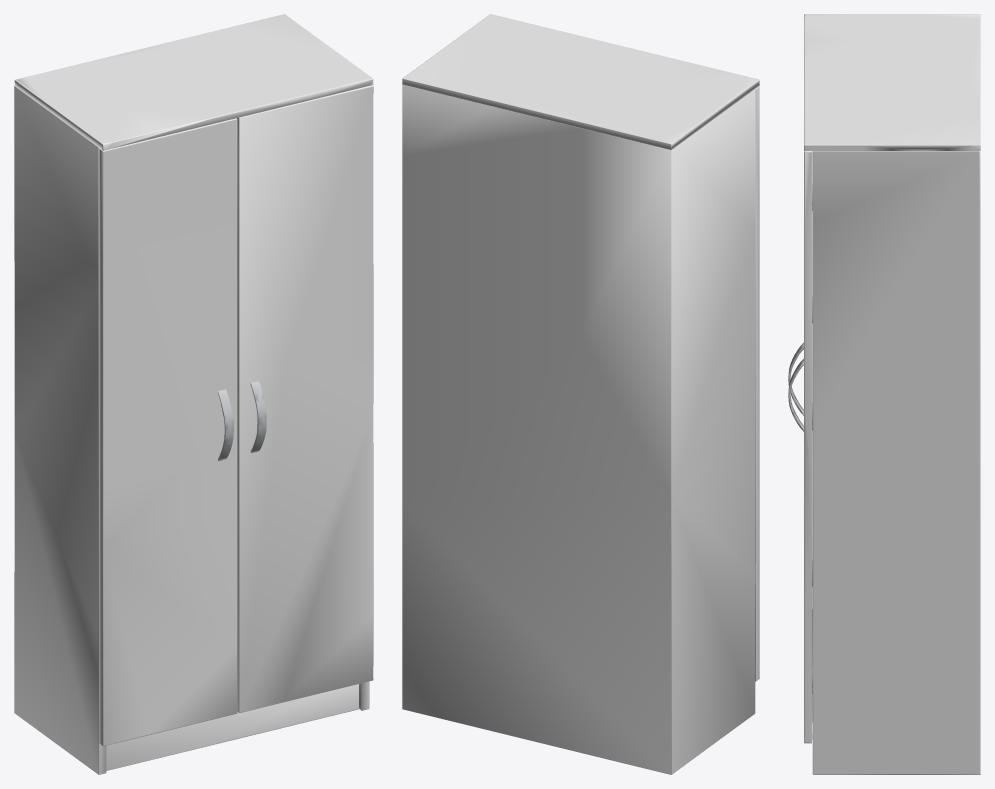
File: B079TYF1GK.glb
3 renders of one model, left to right at view 1: azimuth 30°, elevation 25°; view 2: azimuth 150°, elevation 25°; view 3: azimuth 270°, elevation 25°, orthographic.
Parts seen in each view (by area): view 1: B079TYF1GK; view 2: B079TYF1GK; view 3: B079TYF1GK.
Part boxes in pixels (bbox=[...]): B079TYF1GK: bbox=[14, 14, 373, 774]; B079TYF1GK: bbox=[402, 14, 759, 774]; B079TYF1GK: bbox=[788, 14, 980, 774].
Bounding box in the file's own units: 0.76 × 1.7 × 0.4701.
1 material, 1 textured.
